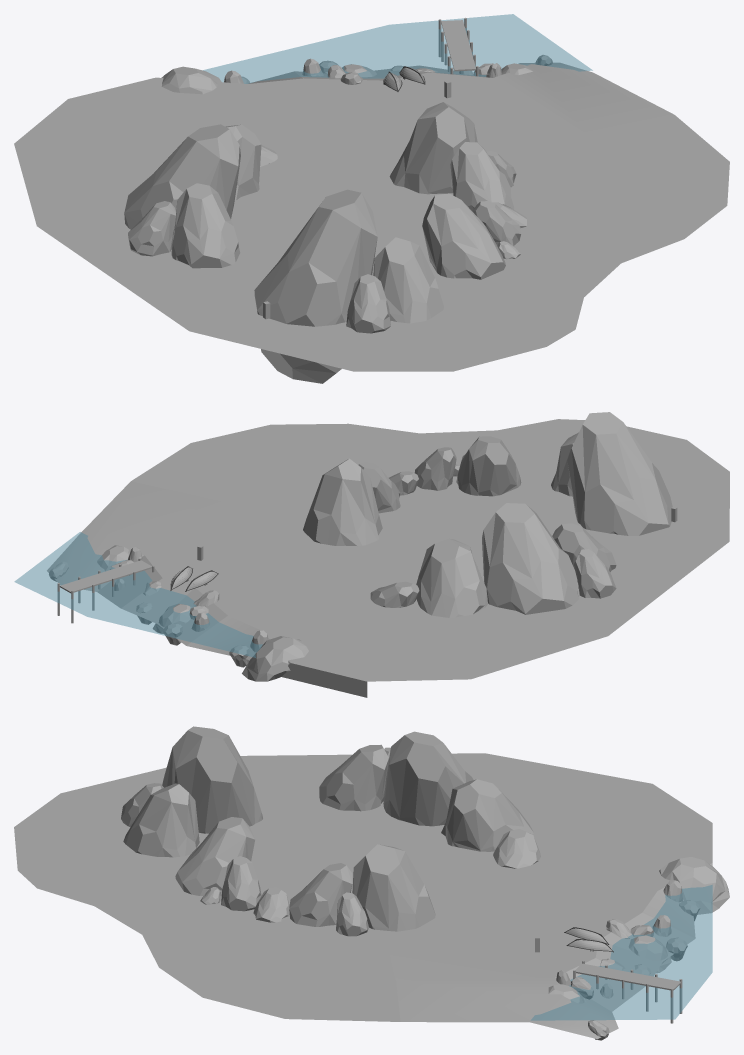
Rendered from anothaone.fbx.
3 renders of one model, top to bottom at view 1: azimuth 30°, elevation 25°; view 2: azimuth 150°, elevation 25°; view 3: azimuth 270°, elevation 25°, orthographic. The views are drawn at different scales.
Visible parts, largest first — view 1: polySurface126; view 2: polySurface126; view 3: polySurface126.
Boxes of the visible parts, <box> form: polySurface126: <box>14,14,729,383</box>; polySurface126: <box>14,412,729,697</box>; polySurface126: <box>14,726,729,1040</box>.
Size of the model in its own units: 6288 by 7076 by 1783.
